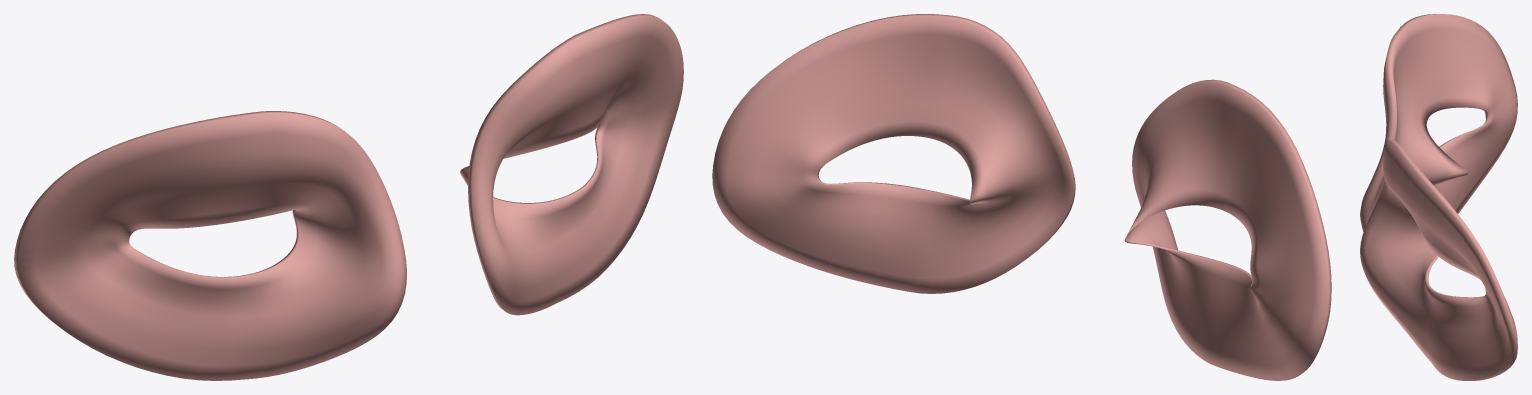
Rendered from orbicularis_oculi_lod1.glb.
The picture shows the model from 3 angles, left to right: view 1: azimuth 30°, elevation 25°; view 2: azimuth 150°, elevation 25°; view 3: azimuth 270°, elevation 25°; orthographic projection. The views are drawn at different scales.
Visible parts, largest first — view 1: orbicularis_oculi_R_lod1, orbicularis_oculi_L_lod1; view 2: orbicularis_oculi_L_lod1, orbicularis_oculi_R_lod1; view 3: orbicularis_oculi_L_lod1, orbicularis_oculi_R_lod1.
Boxes of the visible parts, left/top/right/bottom form: orbicularis_oculi_R_lod1: left=14, top=111, right=406, bottom=380; orbicularis_oculi_L_lod1: left=460, top=14, right=683, bottom=315; orbicularis_oculi_L_lod1: left=712, top=14, right=1075, bottom=293; orbicularis_oculi_R_lod1: left=1124, top=79, right=1331, bottom=380; orbicularis_oculi_L_lod1: left=1360, top=139, right=1517, bottom=380; orbicularis_oculi_R_lod1: left=1360, top=14, right=1517, bottom=231.
Bounding box in the file's own units: 0.1244 × 0.0505 × 0.0337.
